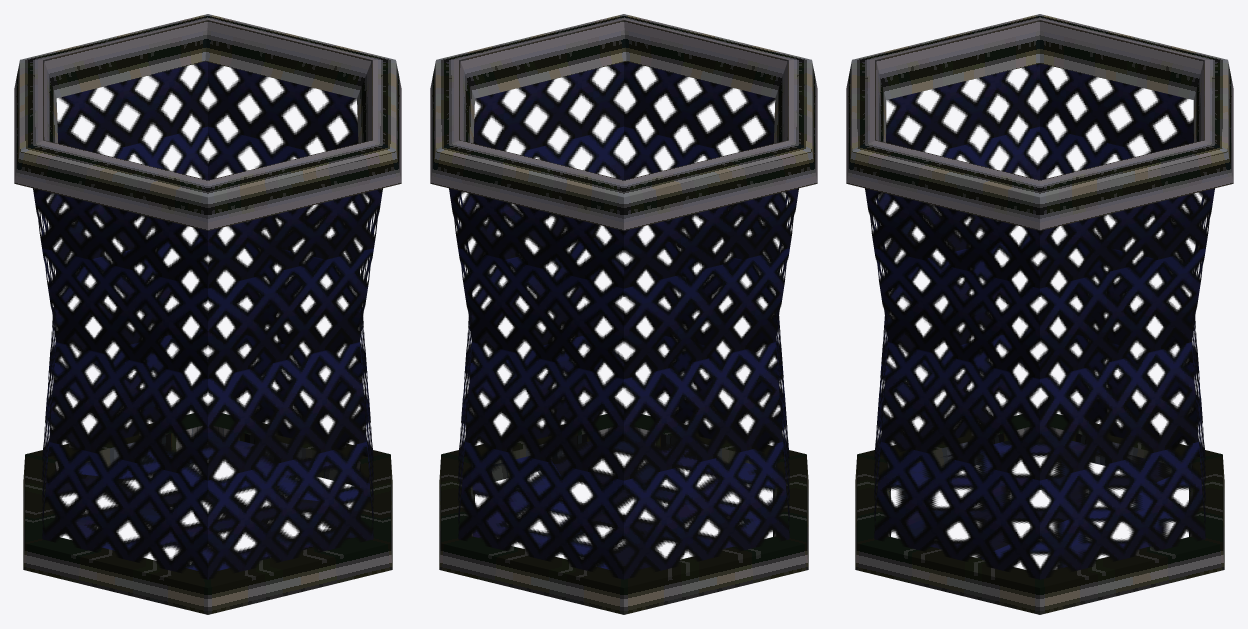
File: prop_trash_can_office.glb
The picture shows the model from 3 angles, left to right: view 1: azimuth 30°, elevation 25°; view 2: azimuth 150°, elevation 25°; view 3: azimuth 270°, elevation 25°; orthographic projection.
Visible parts, largest first — view 1: Trashcan_office_2; view 2: Trashcan_office_2; view 3: Trashcan_office_2.
Part boxes in pixels (x1,y1,x2,y2): Trashcan_office_2: (14,14,401,614); Trashcan_office_2: (430,14,817,614); Trashcan_office_2: (846,14,1233,614).
Size of the model in its own units: 0.7228 by 0.757 by 0.626.
2 materials, 2 textured.
